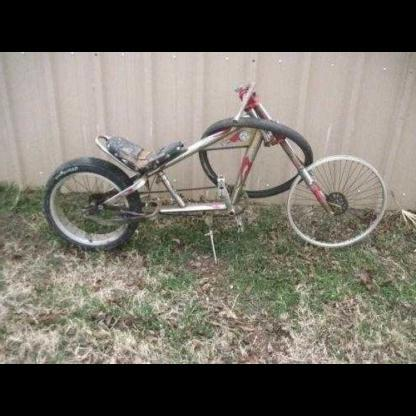Bicycle: (27, 70, 413, 338)
